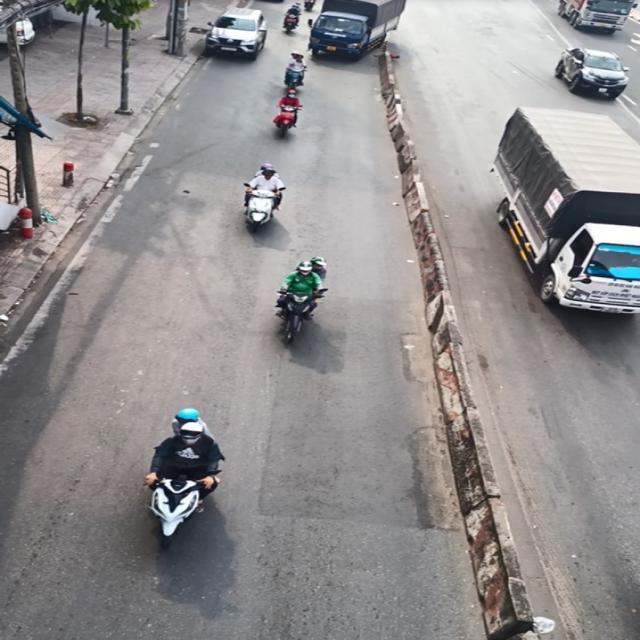car: (208, 0, 269, 61), (558, 48, 630, 99)
motorcycle: (154, 467, 198, 547), (281, 282, 312, 343), (239, 183, 273, 237), (278, 101, 299, 140)
person: (177, 423, 212, 480), (292, 260, 321, 320), (171, 409, 210, 437), (308, 246, 330, 289), (258, 167, 274, 200), (285, 83, 298, 109)
truck: (492, 110, 640, 323), (313, 0, 408, 56), (558, 0, 640, 35)
